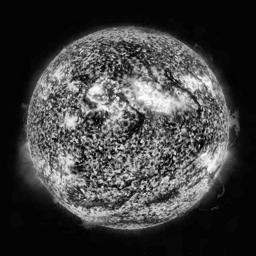solar flares: (129, 80, 179, 117), (93, 82, 118, 114), (202, 143, 222, 171), (178, 71, 198, 91), (61, 114, 81, 128), (199, 73, 211, 94), (56, 64, 67, 85)
sunspots: (104, 58, 131, 80), (85, 111, 110, 133), (120, 40, 145, 60), (127, 110, 142, 137), (187, 93, 202, 116), (74, 74, 95, 89), (77, 150, 91, 172), (157, 186, 173, 205), (191, 129, 205, 148), (158, 155, 173, 172), (93, 197, 114, 209), (163, 68, 177, 82)
